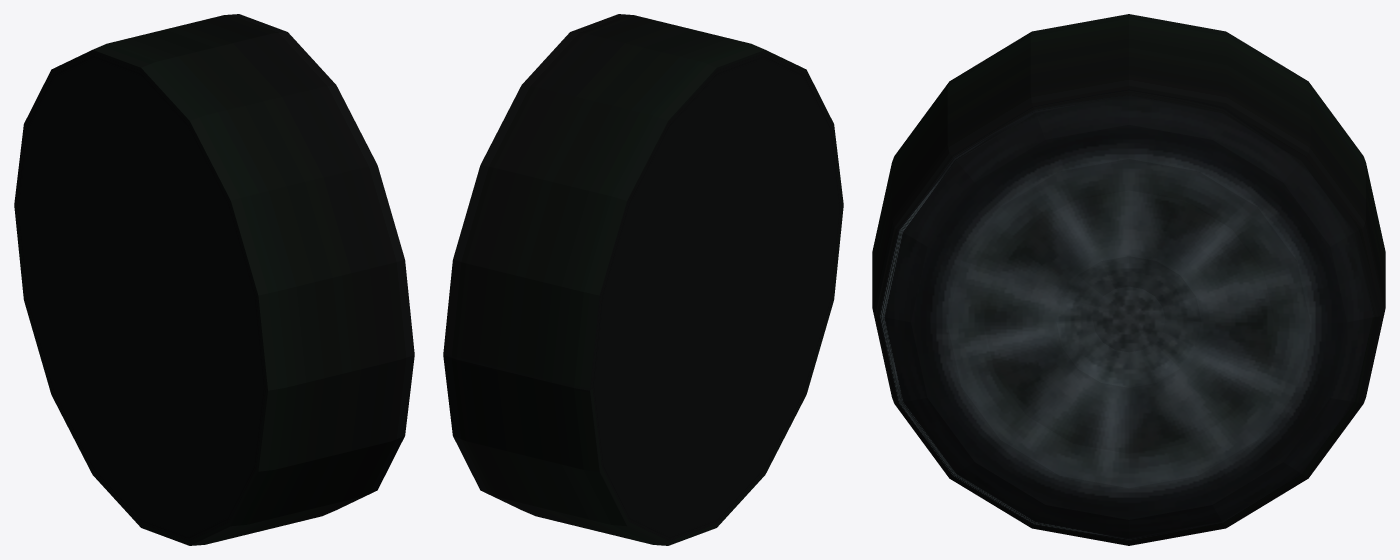
Rendered from wheel.glb.
3 renders of one model, left to right at view 1: azimuth 30°, elevation 25°; view 2: azimuth 150°, elevation 25°; view 3: azimuth 270°, elevation 25°, orthographic.
Visible parts, largest first — view 1: wheel; view 2: wheel; view 3: wheel.
Boxes of the visible parts, bbox=[...] form: wheel: bbox=[14, 14, 414, 545]; wheel: bbox=[443, 14, 843, 545]; wheel: bbox=[872, 14, 1385, 545].
Size of the model in its own units: 0.239 by 0.6525 by 0.6525.
Materials: 1 (1 with a texture image).
